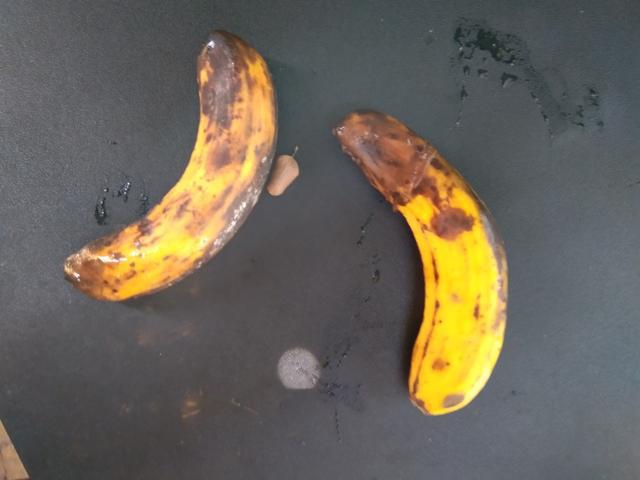rotten: (29, 10, 283, 329), (324, 77, 544, 434)
